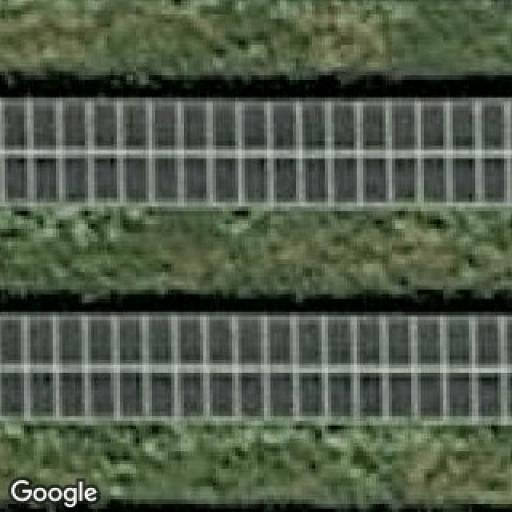solar-panel: (0, 96, 512, 210), (0, 322, 512, 418)
